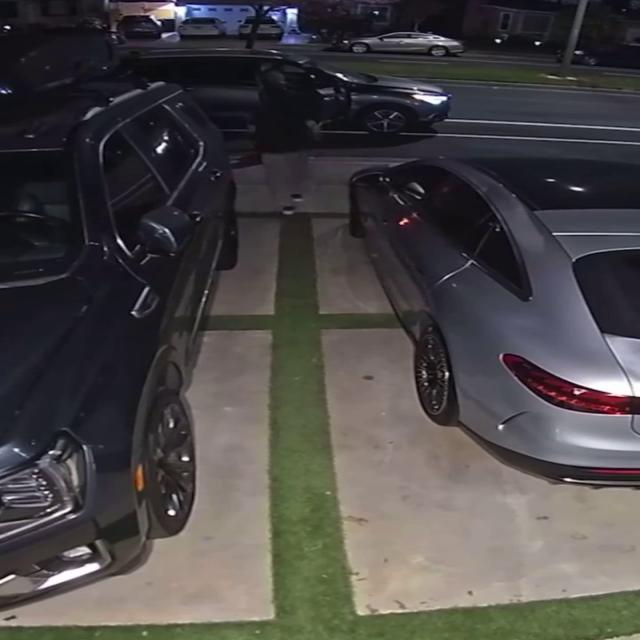Theft - Alert: (349, 157, 639, 488), (124, 49, 418, 156)
